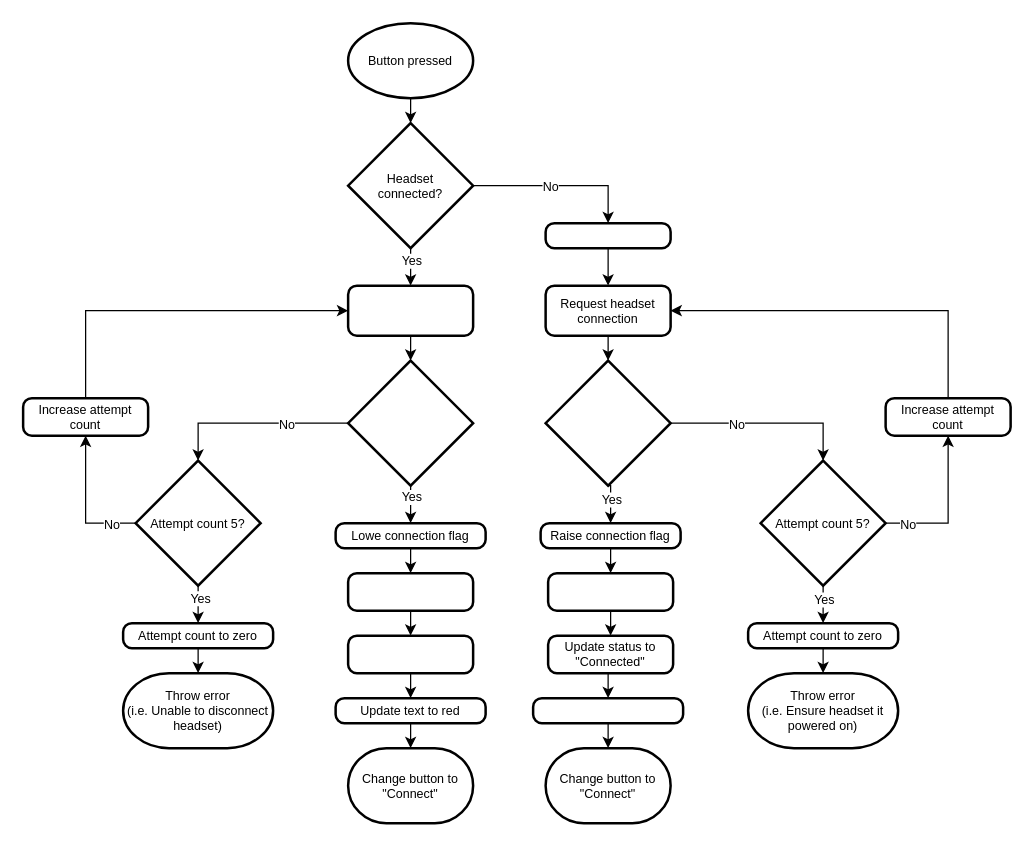
Image size: 1033x845. Some labels were removed from this diagram. The shapes that lost their labels are listed below. From the top down, each one's centre as x and y in pixels, then its label:
point (607, 235): Pull the headset ID
point (410, 310): Request headset disconnection
point (410, 422): Disconnection Successful?
point (607, 422): Connection Successful?
point (410, 591): Enable headset ID input
point (610, 591): Disable headset ID input
point (410, 654): Update status to "Disconnected"
point (607, 710): Update text to green
